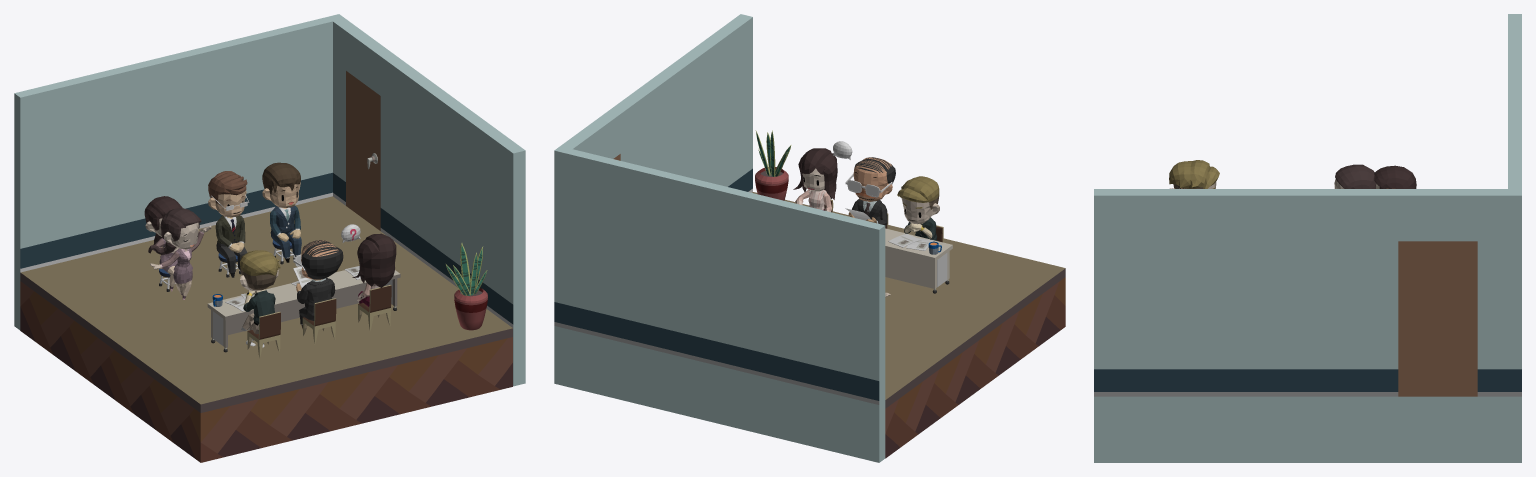
File: 0087_yura_interview.fbx
3 views of the same model, side by side, from view 1: azimuth 30°, elevation 25°; view 2: azimuth 150°, elevation 25°; view 3: azimuth 270°, elevation 25° (orthographic). The views are drawn at different scales.
Visible parts, largest first — view 1: Wall, Plate, Table, Chair01 (×3), interviewer01_Head, Yura02_Head, Man02_Head, Man01_Head, Interviewer03_Head001, interviewer02_Head, Pot, Yura_Head (+2 smaller); view 2: Wall, Plate, Table, interviewer01_Head, Interviewer03_Head001, interviewer02_Head, Pot; view 3: Wall, Interviewer03_Head001, Yura02_Head, Yura_Head.
Boxes of the visible parts, left/top/right/bottom form: Wall: left=14, top=14, right=525, bottom=386; Plate: left=20, top=196, right=512, bottom=462; Table: left=207, top=270, right=400, bottom=347; Chair01 (×3): left=247, top=285, right=391, bottom=357; interviewer01_Head: left=352, top=233, right=396, bottom=287; Yura02_Head: left=148, top=208, right=201, bottom=254; Man02_Head: left=262, top=162, right=300, bottom=207; Man01_Head: left=208, top=171, right=247, bottom=217; Interviewer03_Head001: left=240, top=250, right=280, bottom=290; interviewer02_Head: left=301, top=240, right=343, bottom=279; Pot: left=454, top=288, right=487, bottom=330; Yura_Head: left=144, top=196, right=182, bottom=244; Wall: left=554, top=14, right=885, bottom=462; Plate: left=752, top=192, right=1065, bottom=458; Table: left=885, top=228, right=952, bottom=288; interviewer01_Head: left=793, top=148, right=837, bottom=199; Interviewer03_Head001: left=897, top=176, right=939, bottom=224; interviewer02_Head: left=853, top=157, right=895, bottom=201; Pot: left=755, top=167, right=788, bottom=200; Wall: left=1094, top=14, right=1521, bottom=462; Interviewer03_Head001: left=1169, top=160, right=1219, bottom=188; Yura02_Head: left=1334, top=164, right=1376, bottom=188; Yura_Head: left=1374, top=165, right=1416, bottom=188.
Size of the model in its own units: 10.33 by 7.08 by 10.27.
